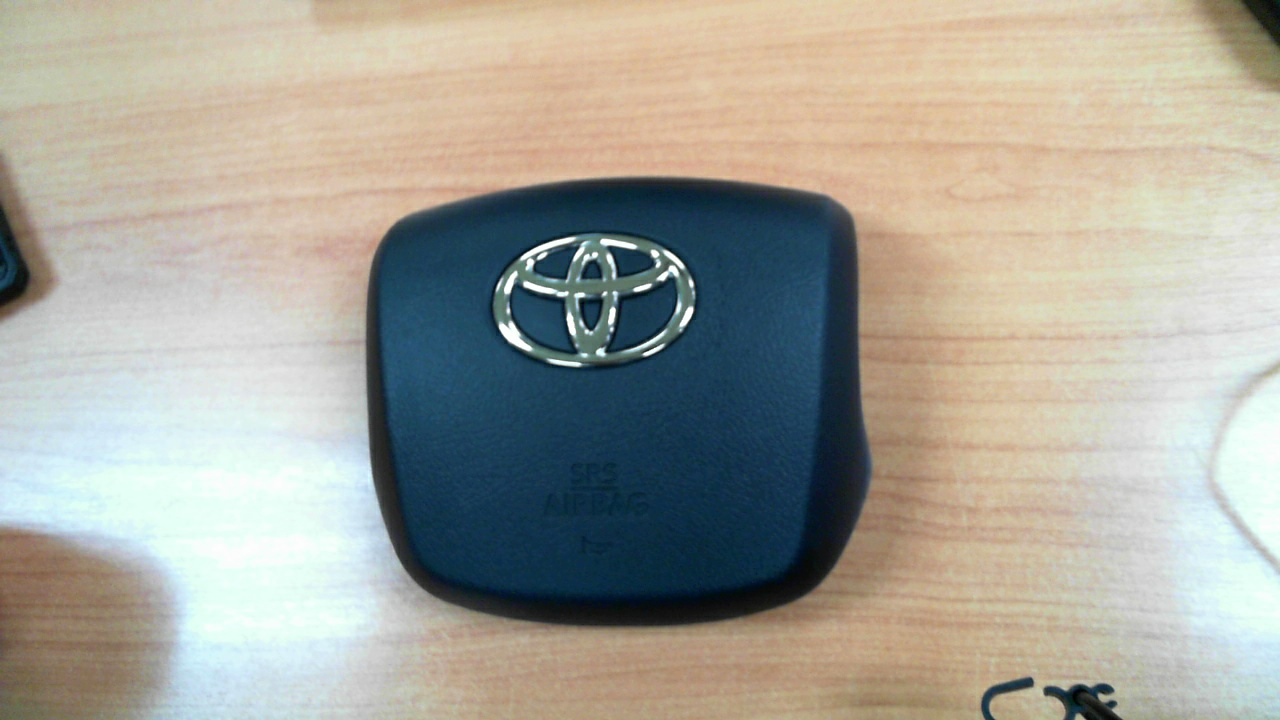Airbag: (332, 200, 904, 618)
